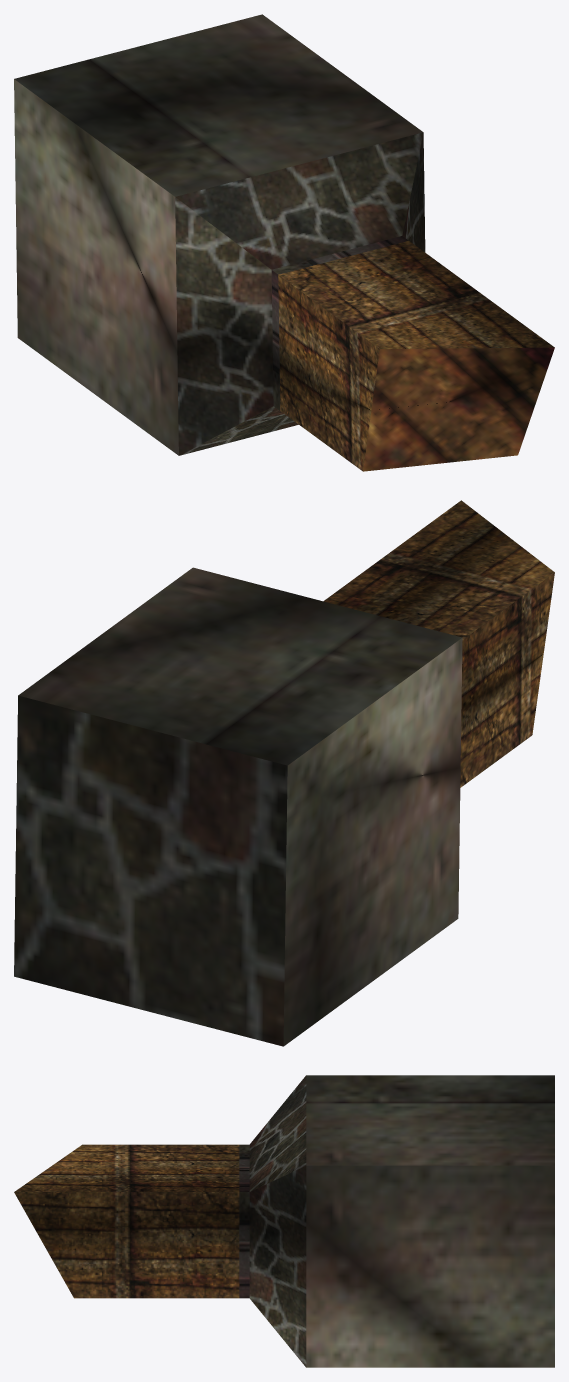
The model's file is column-destr_11.obj.
3 views of the same model, one above another, from view 1: azimuth 30°, elevation 25°; view 2: azimuth 150°, elevation 25°; view 3: azimuth 270°, elevation 25° (orthographic). The views are drawn at different scales.
Visible parts, largest first — view 1: (null); view 2: (null); view 3: (null).
Boxes of the visible parts, x1=… form: (null): x1=14, y1=14, x2=554, y2=471; (null): x1=14, y1=500, x2=554, y2=1046; (null): x1=14, y1=1075, x2=554, y2=1367.
Size of the model in its own units: 0.6843 by 0.6843 by 1.65.
